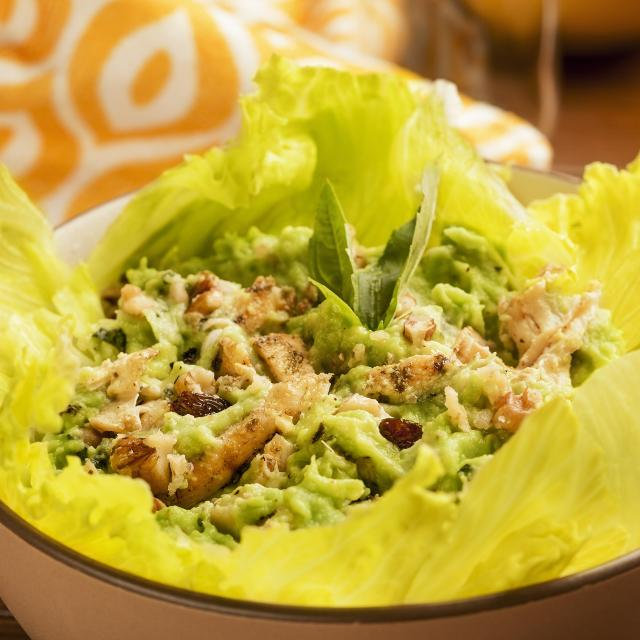aguacate: (267, 52, 501, 280)
